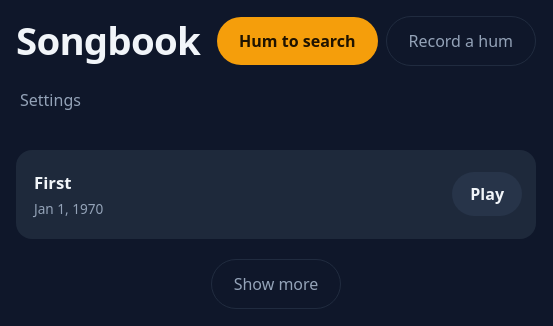
it: SongbookScreen › shows a synchronous pending label on Show more while the next page loads (AC2.1)
Check: the text "First" is shown, box [34, 170, 72, 195]
Click the button "Show more": (276, 284) [211, 259, 341, 309]
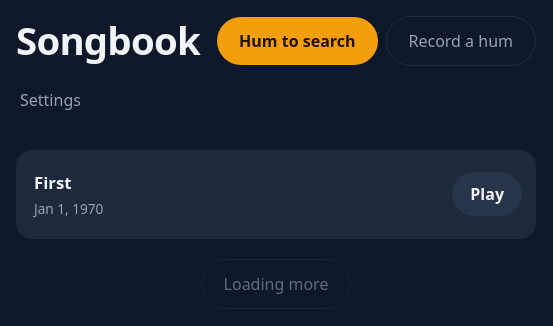
Check: the button "Loading more" is disabled, box [201, 259, 352, 309]
